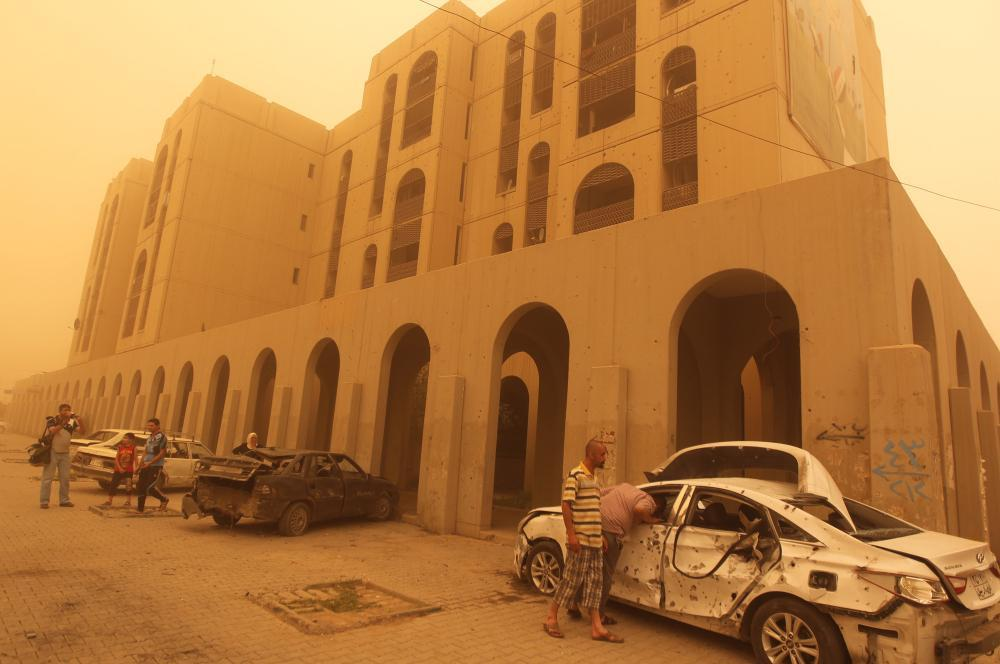car: (509, 438, 1000, 664), (180, 445, 400, 536), (71, 432, 219, 496), (56, 429, 167, 480)
person: (538, 438, 627, 647), (563, 480, 669, 623), (38, 402, 86, 510), (128, 416, 170, 514), (100, 432, 140, 507), (230, 433, 270, 491)
